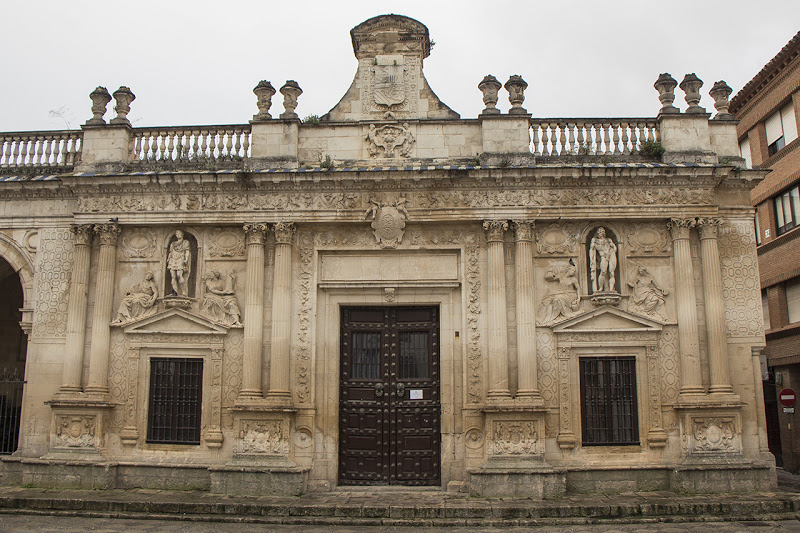fronton: (550, 303, 666, 335), (122, 306, 232, 338)
vano-adintelado: (308, 276, 465, 492), (555, 331, 665, 450), (120, 333, 224, 449)
